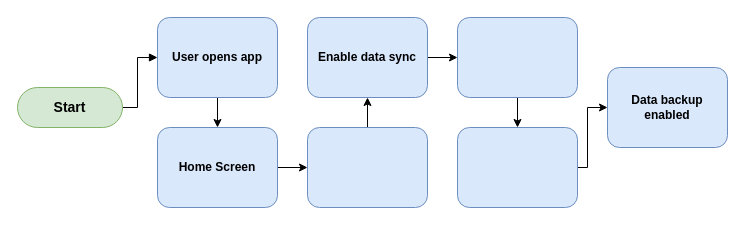
Image size: 745x225. Some labels were removed from this diagram. The centre of each missing label's shape, as x and y in pixels:
Account linked: the point at 517,167
Sign in (Google / Apple): the point at 517,57
User opens settings: the point at 367,167
